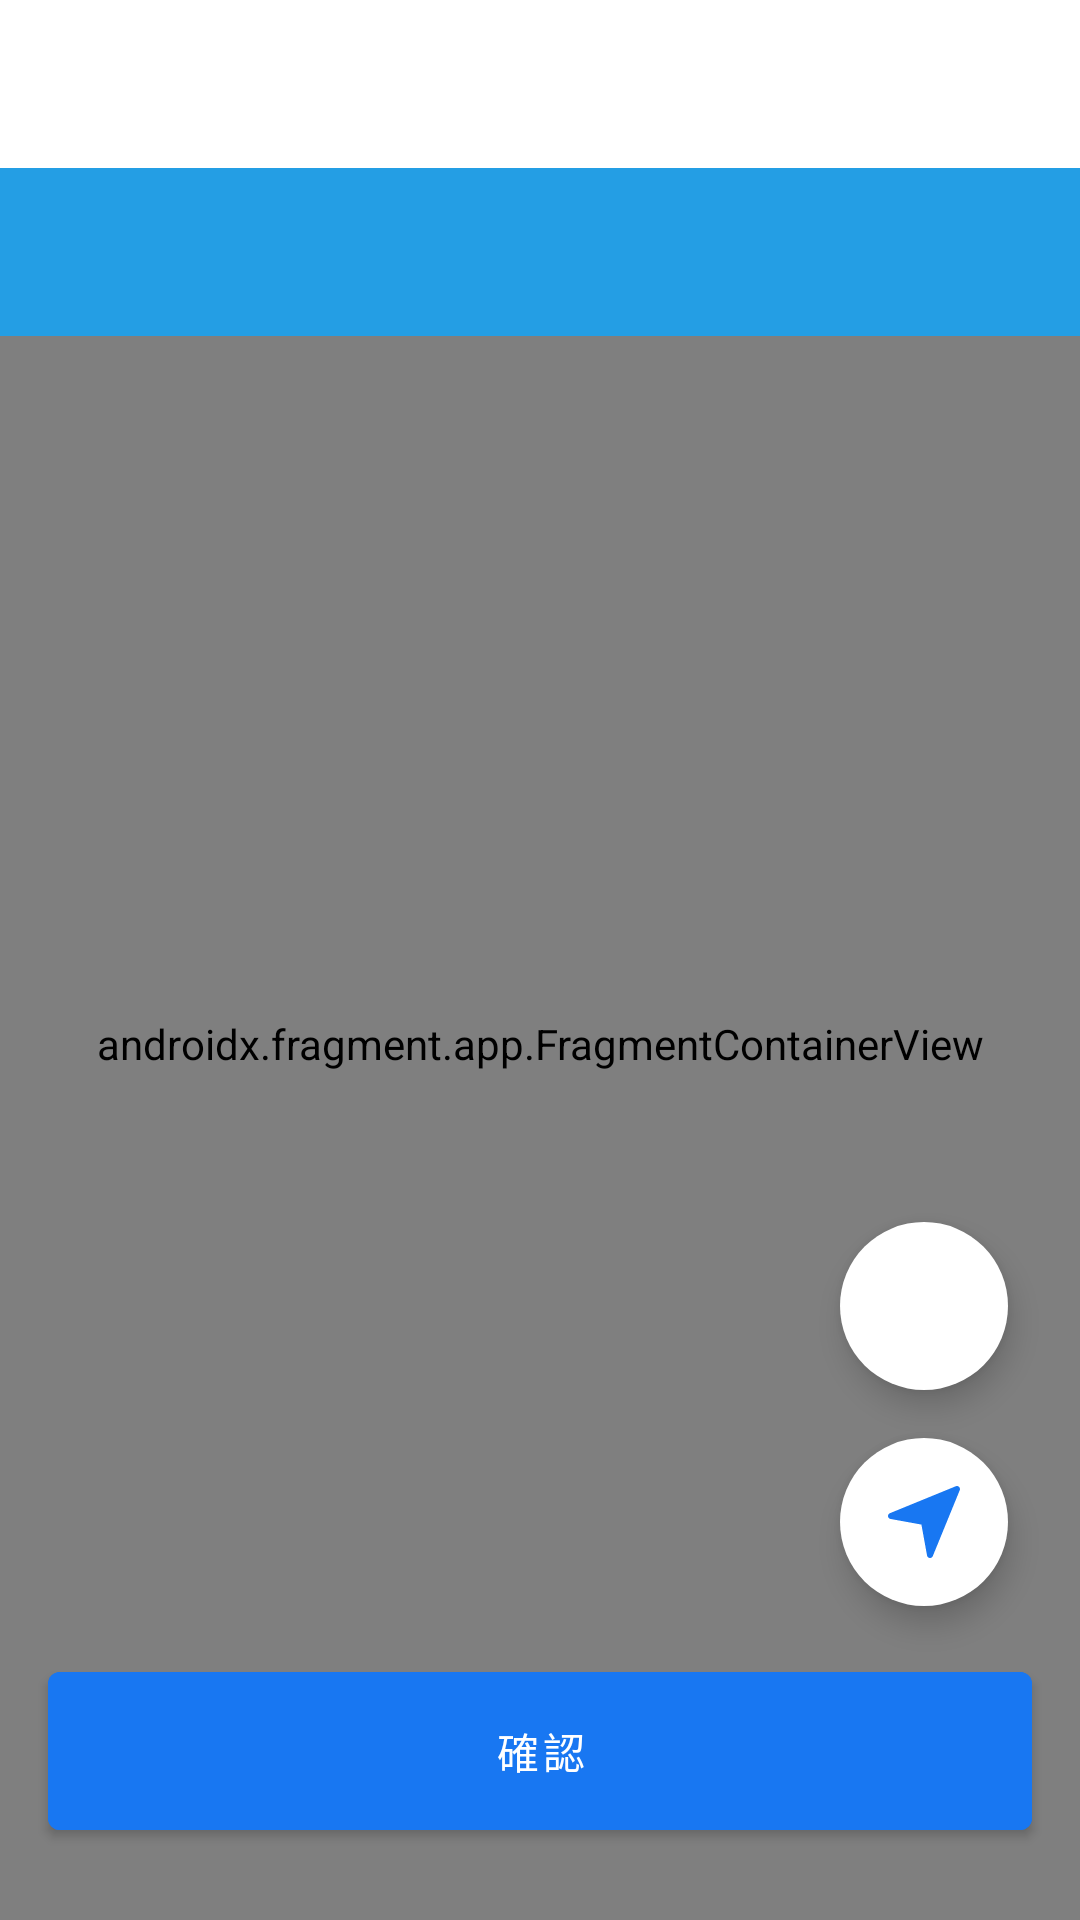

Named icons in this screenshot (1080px×1920px) and their bounding boxes, (x1, y1, x2, y2):
compass: (840, 1438, 1008, 1606)
